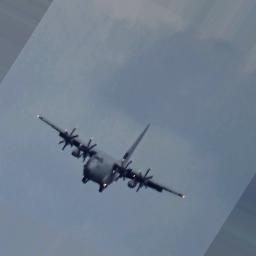Airplane: (36, 113, 185, 199)
